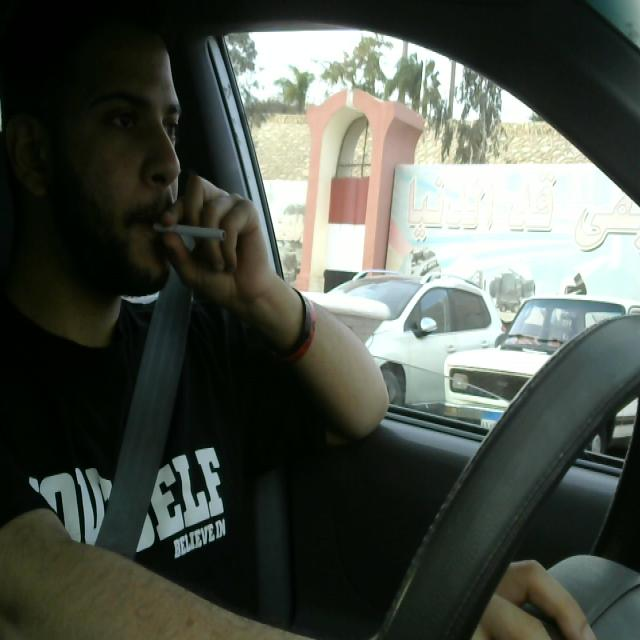smoking: (148, 212, 234, 265)
